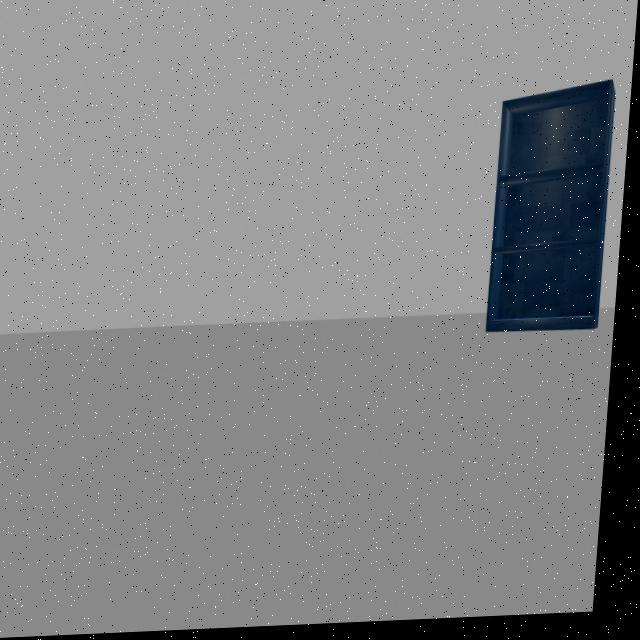shelf: (484, 66, 629, 349)
